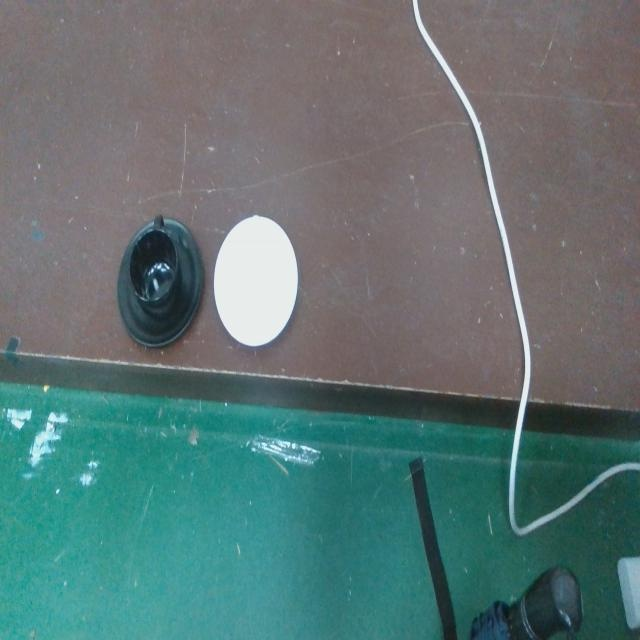black: (116, 210, 206, 351)
white: (212, 211, 302, 352)
